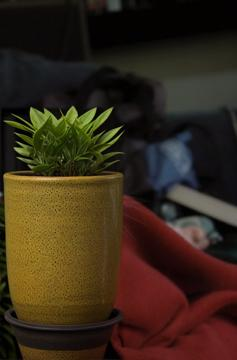pottedplant: (1, 107, 123, 360)
